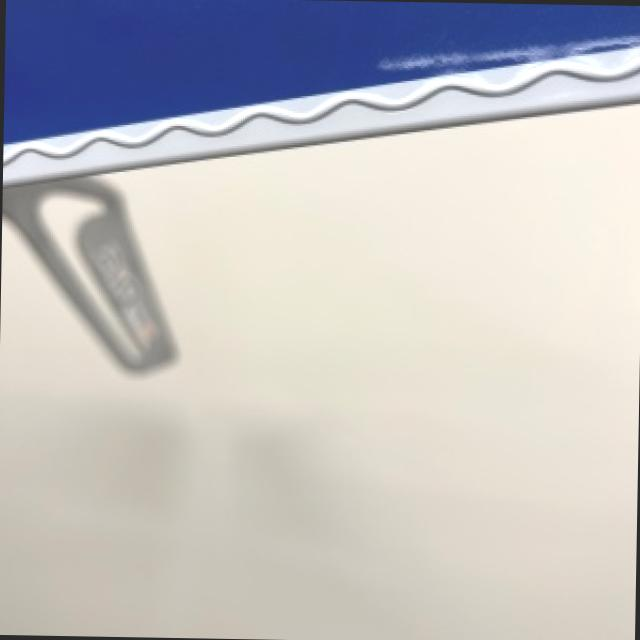healthy: (0, 0, 640, 640), (2, 44, 640, 366), (2, 175, 172, 366)
